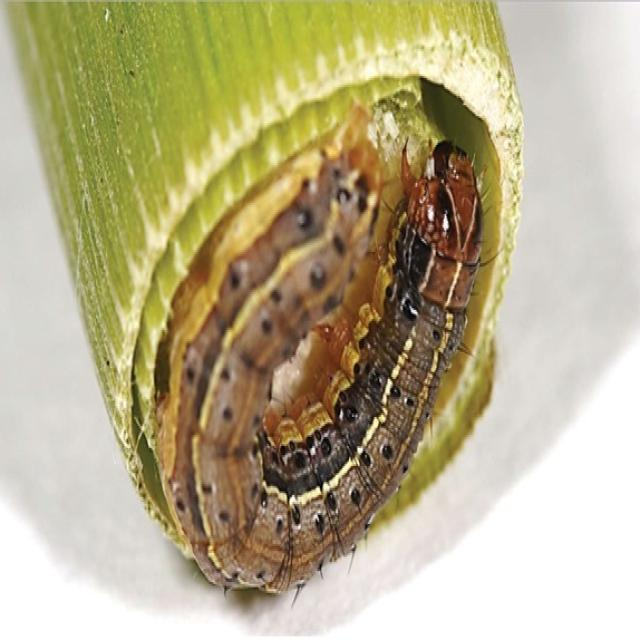Fall-armyworm: (164, 127, 491, 601)
